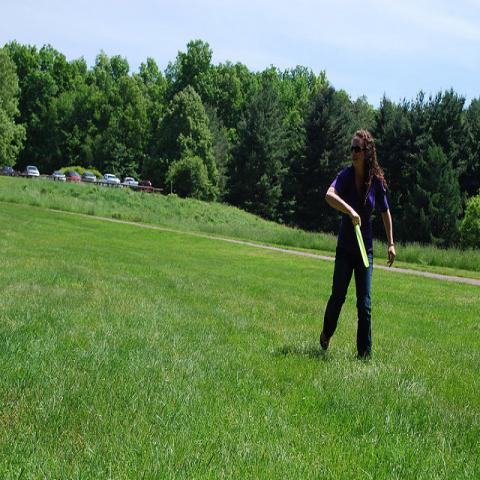car: (98, 174, 121, 183), (63, 170, 82, 180), (1, 166, 19, 176), (24, 166, 40, 176), (53, 171, 66, 181), (82, 171, 96, 180), (123, 178, 139, 185), (142, 180, 152, 187)
